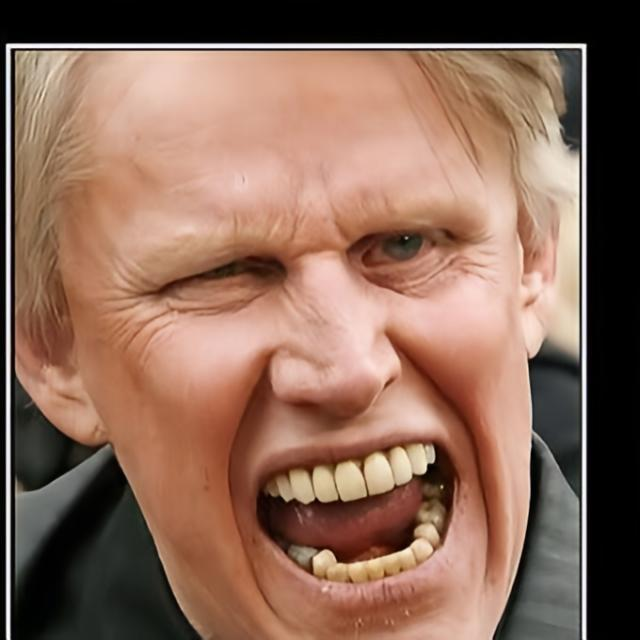anger: (78, 52, 537, 640)
